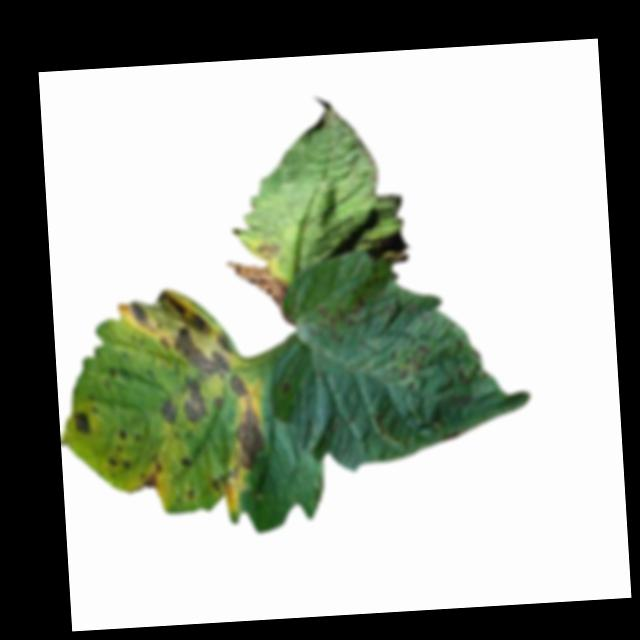Early_blight: (118, 285, 237, 384), (228, 259, 291, 328), (305, 291, 371, 341), (227, 398, 268, 471), (386, 340, 429, 391), (179, 376, 208, 425), (138, 455, 163, 491), (228, 371, 249, 399), (157, 398, 177, 424), (71, 409, 91, 434), (106, 455, 132, 474), (257, 240, 278, 258), (209, 475, 222, 493), (116, 426, 128, 441), (179, 454, 192, 467), (278, 379, 291, 392), (184, 486, 195, 501), (214, 395, 221, 407)
